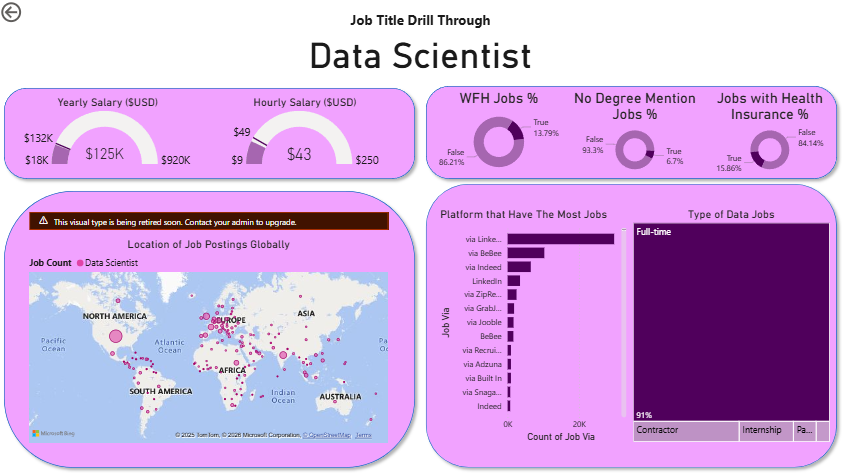

What the dashboard file says about the page in this screenshot:
{"tool":"powerbi","page":{"name":"Job Title Drill Through","canvas":[1280,720],"ordinal":1},"visuals":[{"type":"donutChart","title":"No Degree Mention Jobs %","fields":{"Category":["job_postings_flat.job_no_degree_mention"],"Y":["CountNonNull(job_postings_flat.job_no_degree_mention)"]},"box":[862.3,138.4,205.6,133.3],"z":0,"group":"g1"},{"type":"shape","box":[0,282,640.9,437.5],"z":0},{"type":"shape","box":[0,126.4,640.7,155.8],"z":1000},{"type":"donutChart","title":"WFH Jobs %","fields":{"Category":["job_postings_flat.job_work_from_home"],"Y":["CountNonNull(job_postings_flat.job_work_from_home)"]},"box":[656.7,138.4,205.6,133.3],"z":1000,"group":"g1"},{"type":"shape","box":[639.1,123,640.9,158.9],"z":2000},{"type":"donutChart","title":"Jobs with Health Insurance %","fields":{"Category":["job_postings_flat.job_health_insurance"],"Y":["CountNonNull(job_postings_flat.job_health_insurance)"]},"box":[1068,138.4,205.6,133.3],"z":2000,"group":"g1"},{"type":"shape","box":[639.1,271.7,640.9,447.7],"z":3000},{"type":"cardVisual","fields":{"Data":["Min(job_postings_flat.job_title_short)"]},"box":[329.1,0,623,126.4],"z":4000},{"type":"actionButton","box":[0,0,100,40],"z":5000},{"type":"group","id":"g1","title":"Group 1","box":[656.7,138.4,616.9,133.3],"z":6000},{"type":"gauge","title":"Hourly Salary ($USD)","fields":{"Y":["Median(job_postings_flat.salary_hour_avg)"],"MinValue":["Min(job_postings_flat.salary_hour_avg)"],"MaxValue":["Max(job_postings_flat.salary_hour_avg)"],"TargetValue":["Avg(job_postings_flat.salary_hour_avg)"]},"box":[310,145.3,308.7,114.5],"z":6000,"group":"g2"},{"type":"gauge","title":"Yearly Salary ($USD)","fields":{"Y":["Median(job_postings_flat.salary_year_avg)"],"MinValue":["Min(job_postings_flat.salary_year_avg)"],"MaxValue":["Max(job_postings_flat.salary_year_avg)1"],"TargetValue":["Avg(job_postings_flat.salary_year_avg)2"]},"box":[20.5,145.3,289.5,114.5],"z":7000,"group":"g2"},{"type":"map","title":"Location of Job Postings Globally","fields":{"Category":["job_postings_flat.job_country"],"Size":["CountNonNull(job_postings_flat.job_title_short)"],"Series":["job_postings_flat.job_title_short"]},"box":[42.7,323,553.7,355.5],"z":7000},{"type":"treemap","title":"Type of Data Jobs","fields":{"Group":["job_postings_flat.job_schedule_type"],"Values":["CountNonNull(job_postings_flat.job_schedule_type)"]},"box":[957.1,314.4,307.5,360.6],"z":8000,"group":"g3"},{"type":"barChart","title":"Platform that Have The Most Jobs","fields":{"Category":["job_postings_flat.job_via"],"Y":["CountNonNull(job_postings_flat.job_via)"]},"box":[664.8,314.4,292.3,360.6],"z":9000,"group":"g3"},{"type":"group","id":"g2","title":"Group 2","box":[20.5,145.3,598.1,114.5],"z":10000},{"type":"group","id":"g3","title":"Group 3","box":[664.8,314.4,599.8,360.6],"z":10001}]}

Visuals, with their boxes in screenshot pixels (x1, y1, x2, y2), scaled from the page's 1280x720 canvas onto the 842x473 screenshot:
"No Degree Mention Jobs %" donutChart: {"left": 567, "top": 91, "right": 702, "bottom": 178}
shape: {"left": 0, "top": 185, "right": 422, "bottom": 472}
shape: {"left": 0, "top": 83, "right": 421, "bottom": 185}
"WFH Jobs %" donutChart: {"left": 432, "top": 91, "right": 567, "bottom": 178}
shape: {"left": 420, "top": 81, "right": 841, "bottom": 185}
"Jobs with Health Insurance %" donutChart: {"left": 703, "top": 91, "right": 838, "bottom": 178}
shape: {"left": 420, "top": 178, "right": 841, "bottom": 472}
cardVisual - Min(job_postings_flat.job_title_short): {"left": 216, "top": 0, "right": 626, "bottom": 83}
actionButton: {"left": 0, "top": 0, "right": 66, "bottom": 26}
"Group 1" group: {"left": 432, "top": 91, "right": 838, "bottom": 178}
"Hourly Salary ($USD)" gauge: {"left": 204, "top": 95, "right": 407, "bottom": 171}
"Yearly Salary ($USD)" gauge: {"left": 13, "top": 95, "right": 204, "bottom": 171}
"Location of Job Postings Globally" map: {"left": 28, "top": 212, "right": 392, "bottom": 446}
"Type of Data Jobs" treemap: {"left": 630, "top": 207, "right": 832, "bottom": 443}
"Platform that Have The Most Jobs" barChart: {"left": 437, "top": 207, "right": 630, "bottom": 443}
"Group 2" group: {"left": 13, "top": 95, "right": 407, "bottom": 171}
"Group 3" group: {"left": 437, "top": 207, "right": 832, "bottom": 443}
